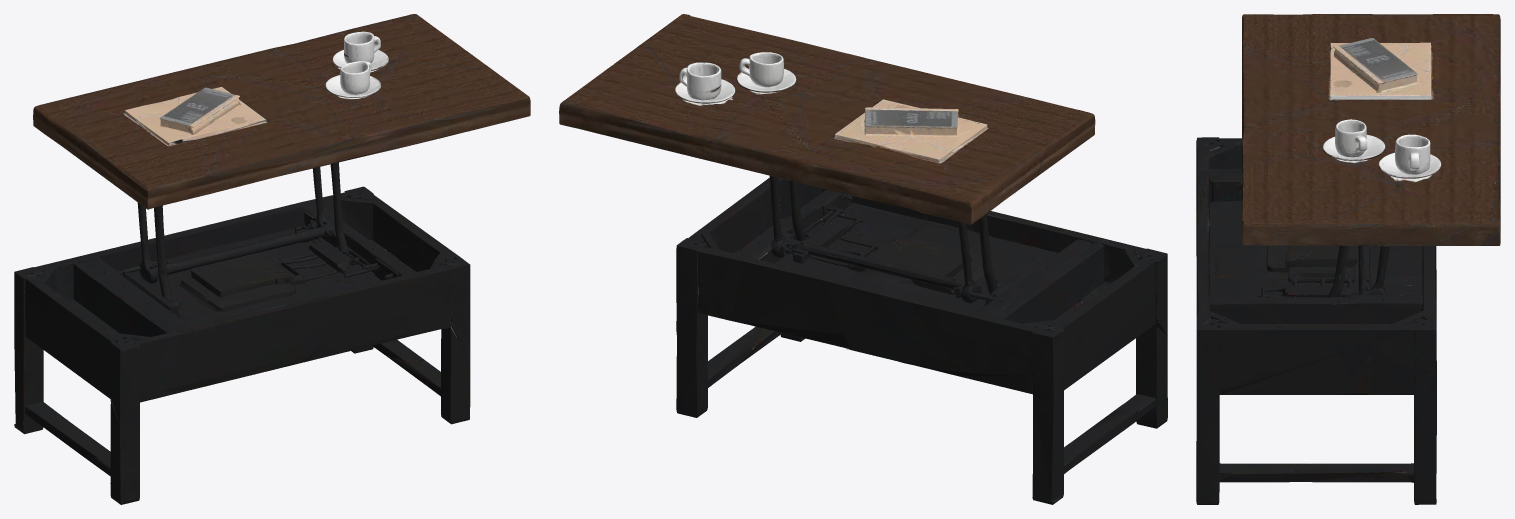
The model's file is homedepot-com-p-alaterre-furniture-pomona-42-in-rustic-natur-0a8dfe.glb.
The picture shows the model from 3 angles, left to right: view 1: azimuth 30°, elevation 25°; view 2: azimuth 150°, elevation 25°; view 3: azimuth 270°, elevation 25°; orthographic projection. The views are drawn at different scales.
Parts seen in each view (by area): view 1: Mesh_0; view 2: Mesh_0; view 3: Mesh_0.
Part boxes in pixels (left/top/right/bottom): Mesh_0: left=14, top=14, right=530, bottom=504; Mesh_0: left=559, top=14, right=1167, bottom=504; Mesh_0: left=1196, top=14, right=1500, bottom=504.
Size of the model in its own units: 1.9 by 1.34 by 1.03.
Materials: 1 (1 with a texture image).
